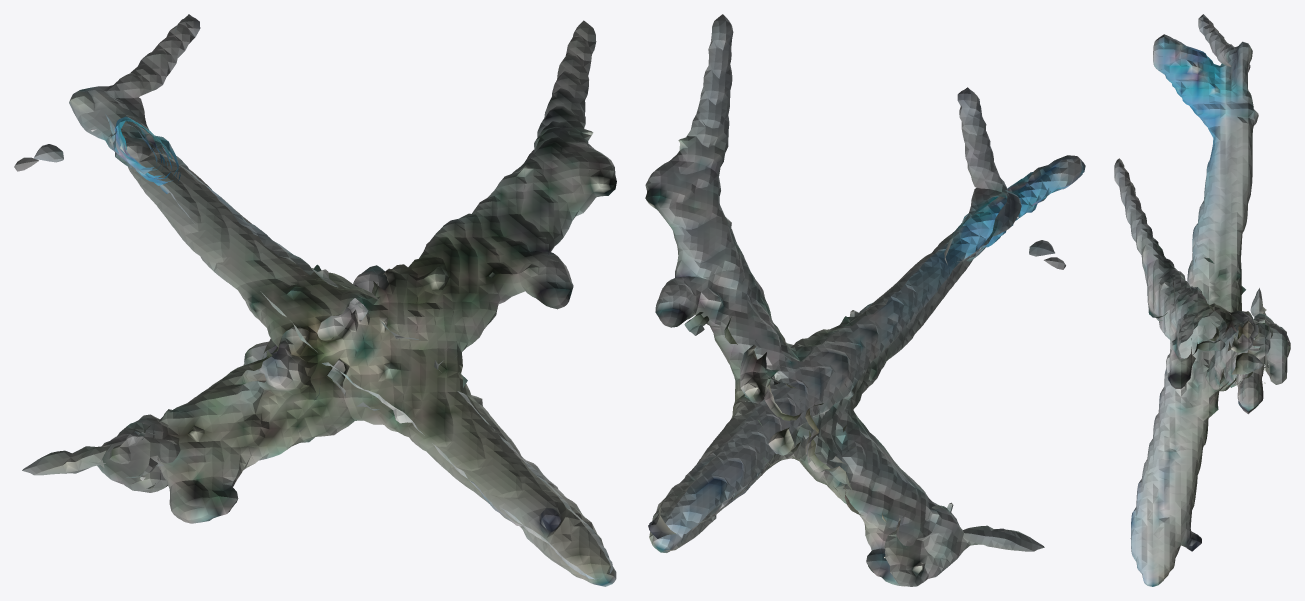
Rendered from boeing-747-reference.glb.
3 views of the same model, side by side, from view 1: azimuth 30°, elevation 25°; view 2: azimuth 150°, elevation 25°; view 3: azimuth 270°, elevation 25° (orthographic). The views are drawn at different scales.
Parts seen in each view (by area): view 1: world; view 2: world; view 3: world.
Part boxes in pixels (x1,y1,x2,y2): world: (14,14,616,586); world: (645,14,1085,586); world: (1114,14,1290,586).
Size of the model in its own units: 0.881 by 1 by 0.3611.
